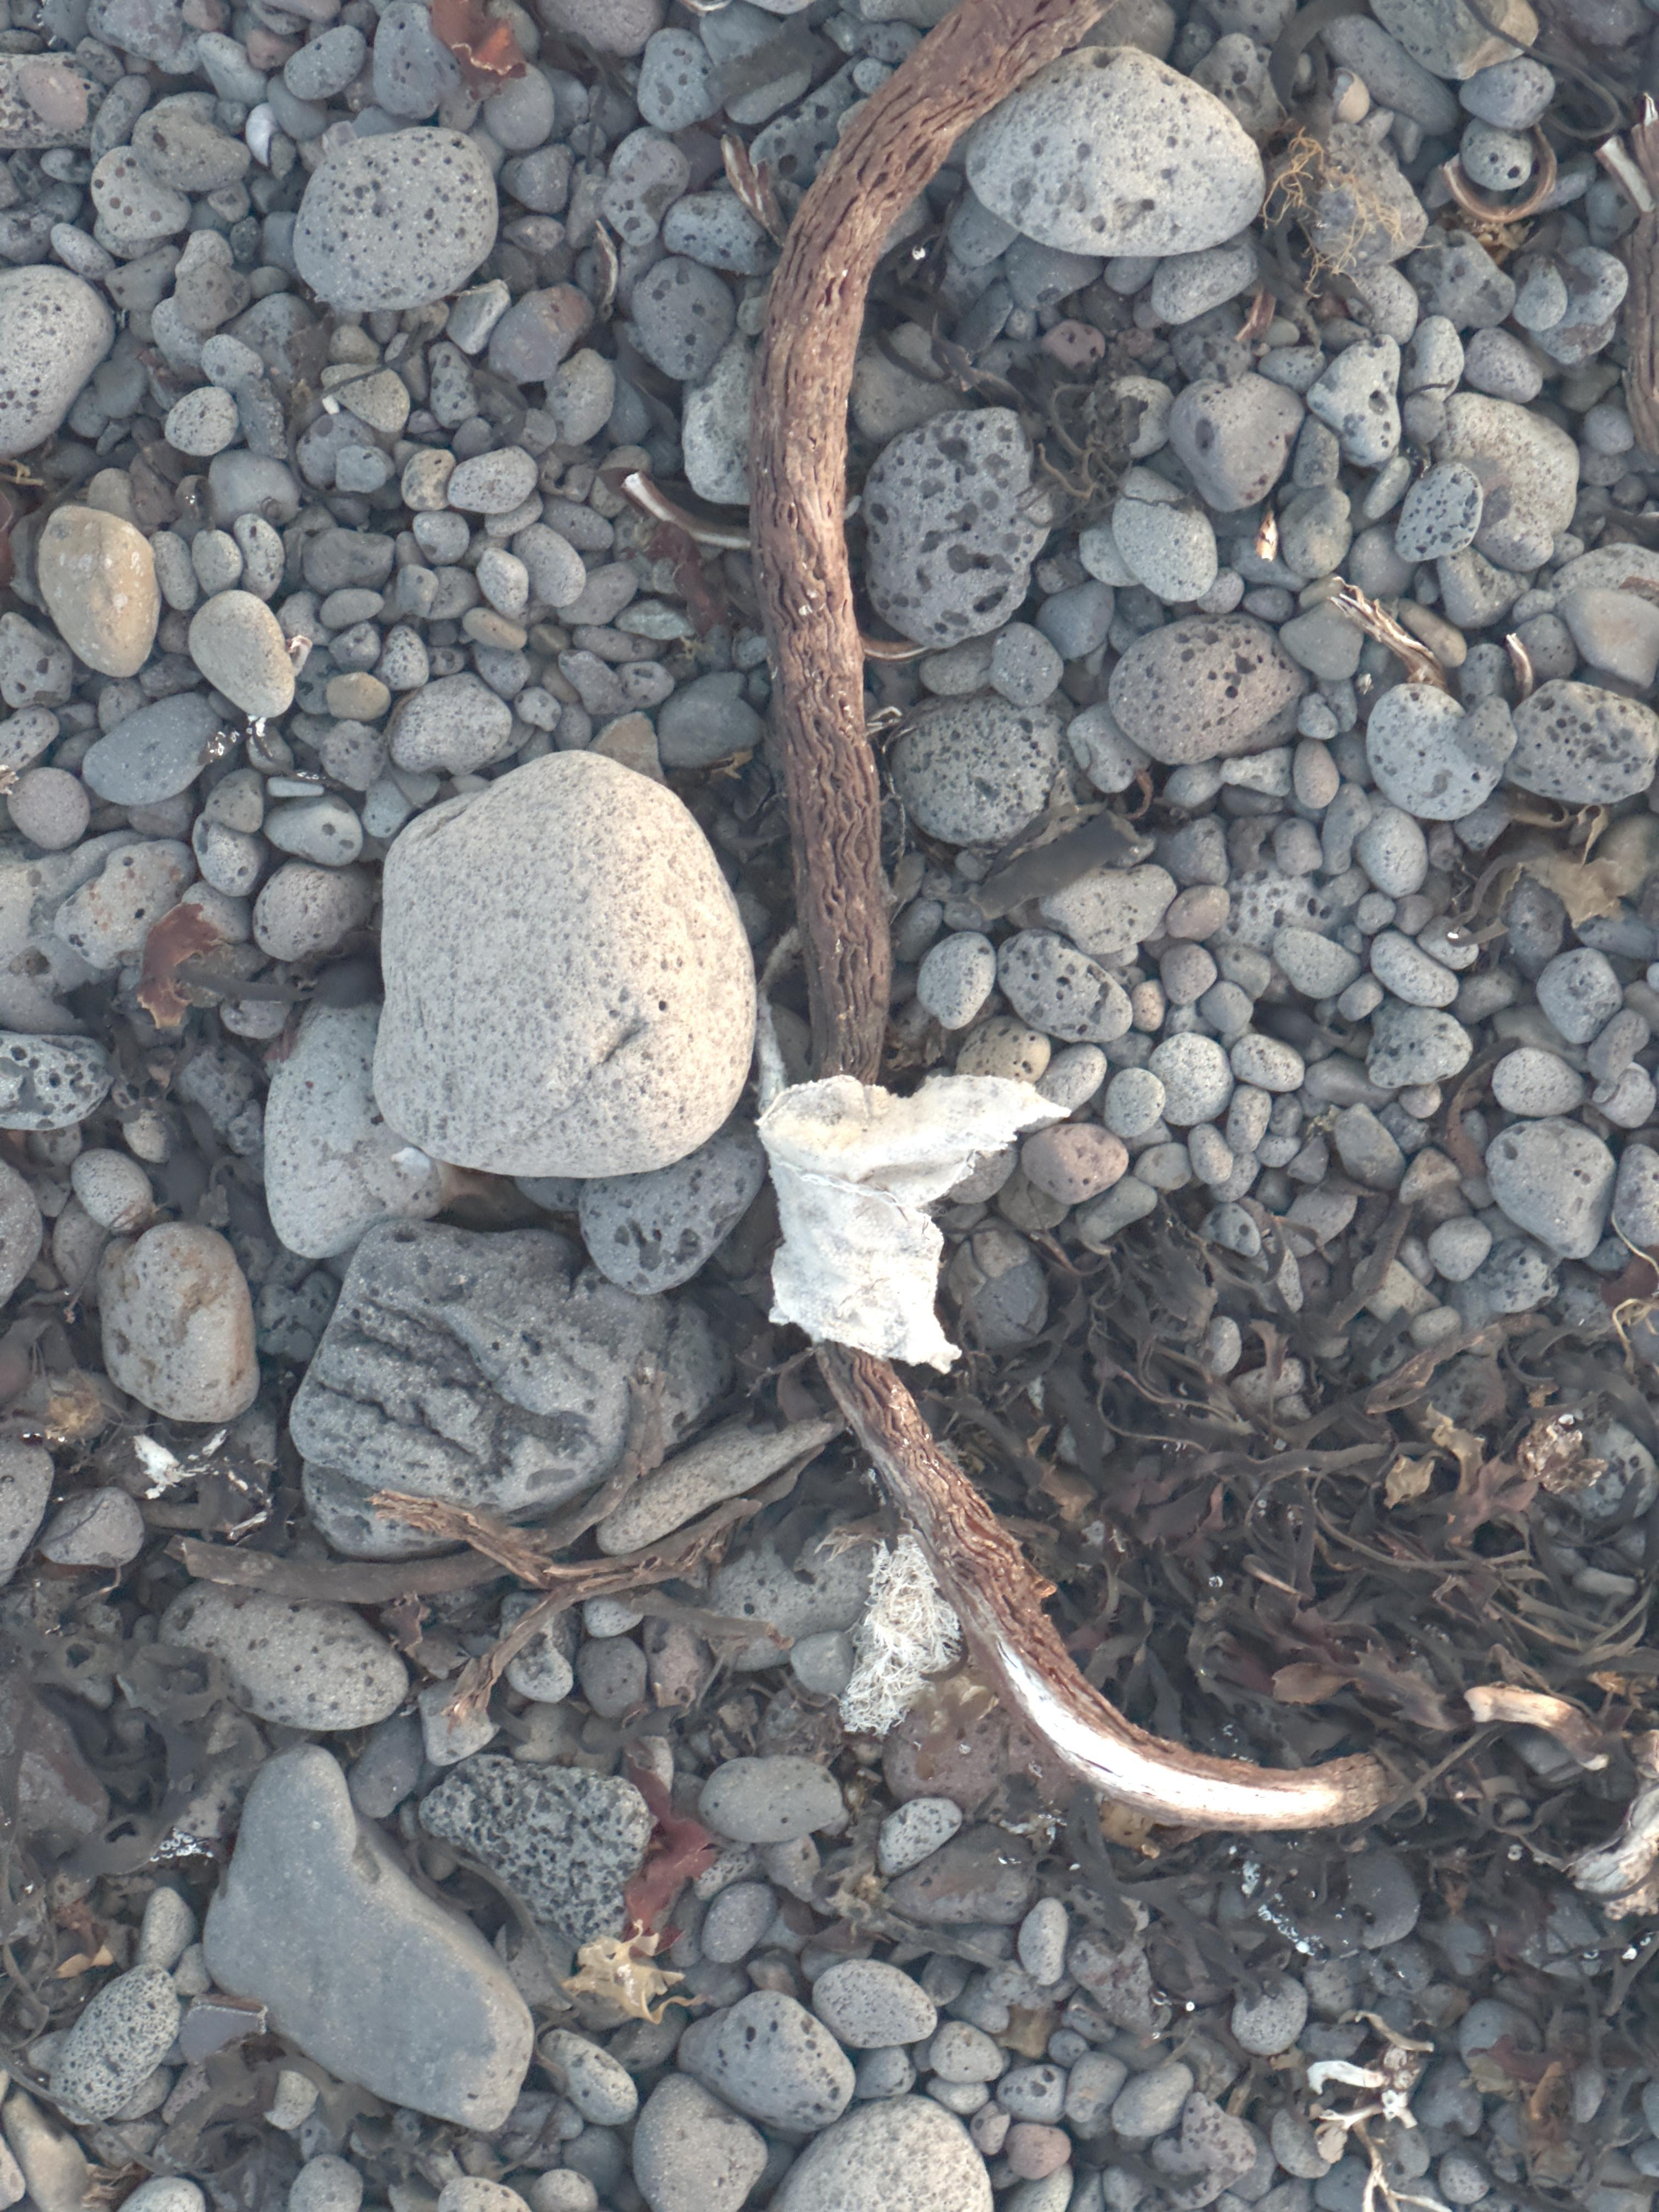trash: (756, 995, 1066, 1369)
